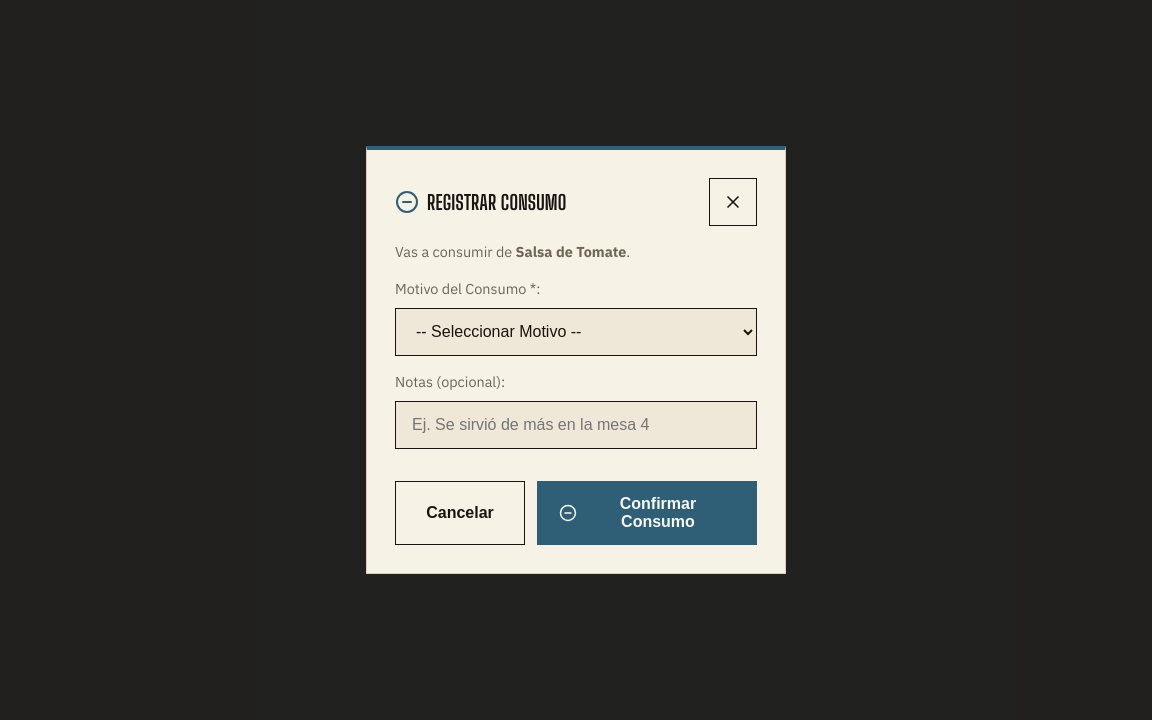
it: TK-108-FE: ConsumeReasonModal Component Suite › sin motivo elegido, el submit se bloquea con ErrorBanner (sin POST, sin popup nativo)
Click the button "Confirmar Consumo" at (647, 513), box left=537, top=481, right=757, bottom=545
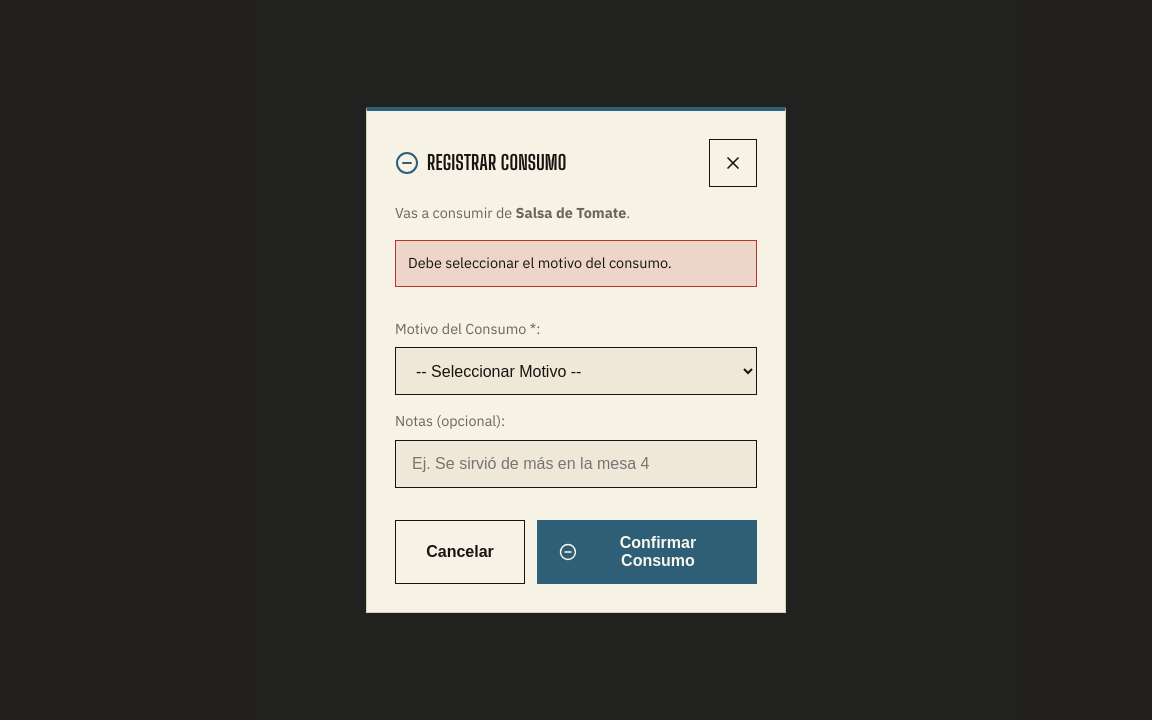
Expected: the message shows "Debe seleccionar el motivo del consumo", left=408, top=253, right=672, bottom=272
